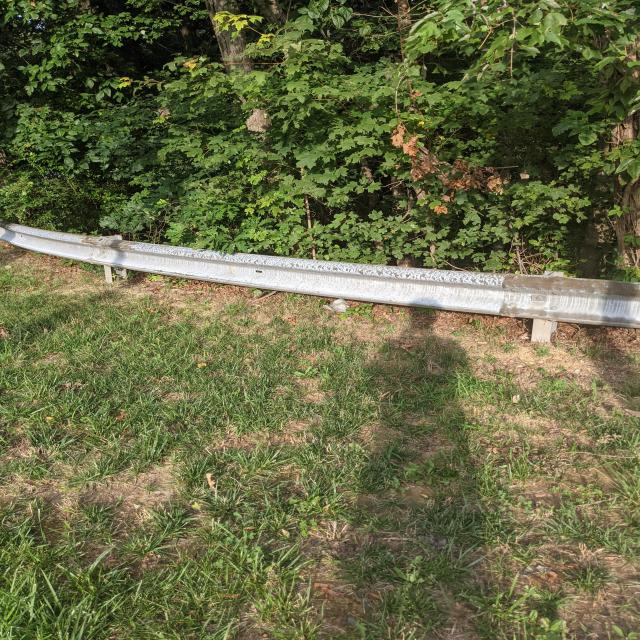litter: (3, 224, 639, 341)
